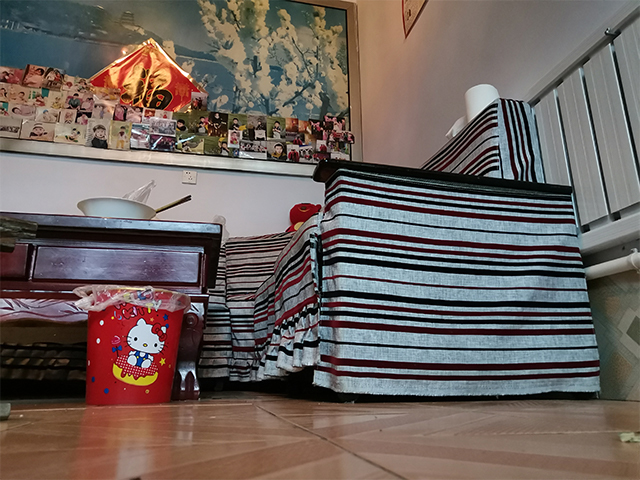sofa: (199, 97, 604, 404)
table: (1, 210, 225, 403)
trashcan: (70, 282, 193, 408)
